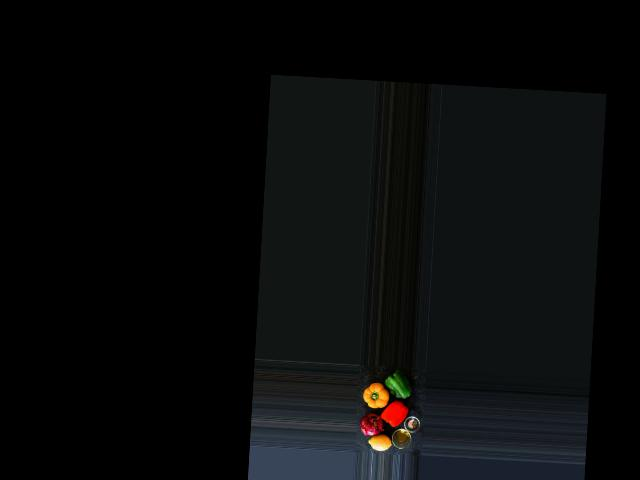bell_pepper: (379, 399, 410, 427)
